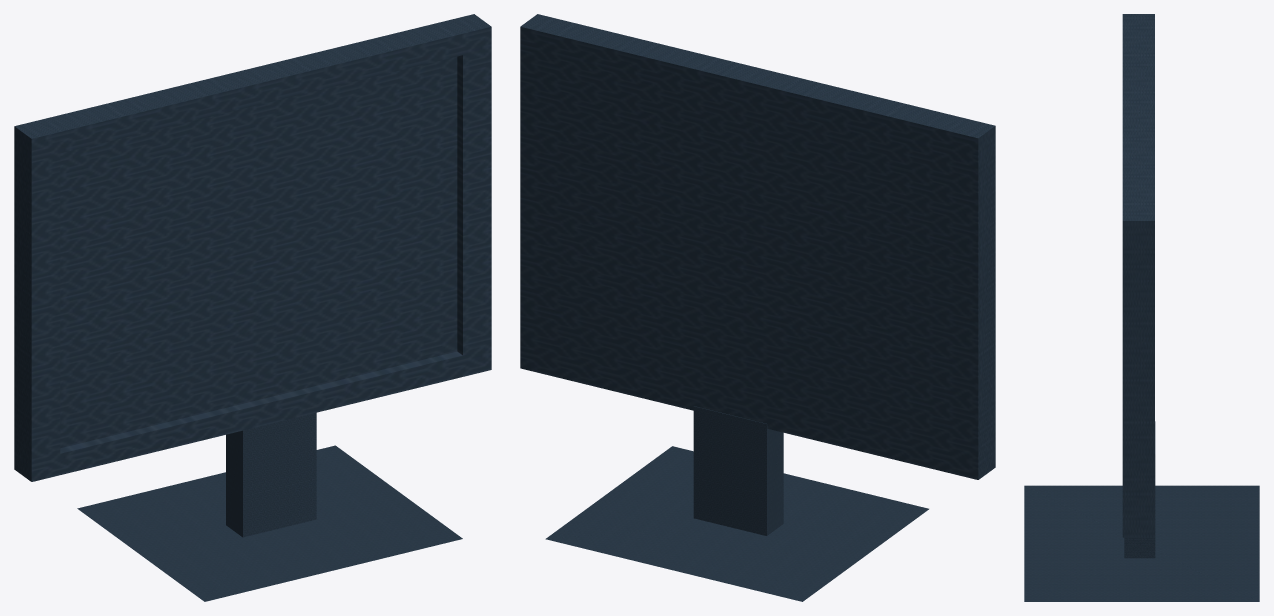
Rendered from compiter1.fbx.
The picture shows the model from 3 angles, left to right: view 1: azimuth 30°, elevation 25°; view 2: azimuth 150°, elevation 25°; view 3: azimuth 270°, elevation 25°; orthographic projection. The views are drawn at different scales.
Parts seen in each view (by area): view 1: Куб, Плоскость, Куб.001; view 2: Куб, Плоскость, Куб.001; view 3: Плоскость, Куб, Куб.001.
Part boxes in pixels (<box>): Куб: <box>14,14,491,481</box>; Плоскость: <box>77,445,462,601</box>; Куб.001: <box>226,412,316,537</box>; Куб: <box>520,14,995,479</box>; Плоскость: <box>545,446,928,601</box>; Куб.001: <box>693,406,783,535</box>; Плоскость: <box>1024,485,1259,601</box>; Куб: <box>1122,14,1154,537</box>; Куб.001: <box>1124,421,1155,558</box>.
Bounding box in the file's own units: 476 × 448 × 229.
